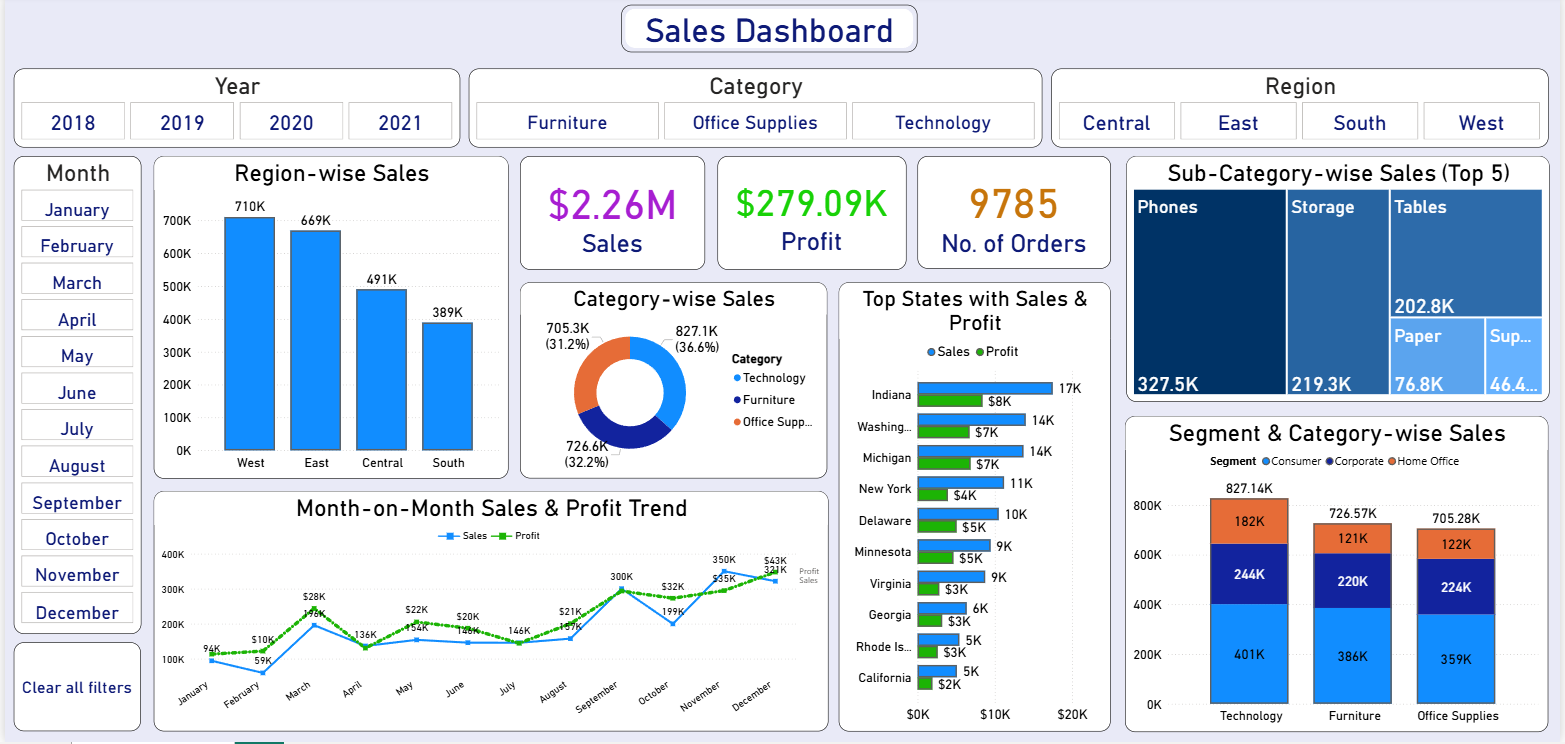

The page's visual inventory and layout, read from the dashboard file:
{"tool":"powerbi","page":{"name":"Sales Dashboard","canvas":[2250,1080],"ordinal":0},"visuals":[{"type":"advancedSlicerVisual","fields":{"Values":["Orders.Region"]},"box":[1514.7,105,720.2,114],"z":0},{"type":"advancedSlicerVisual","fields":{"Values":["Orders.Order Date.Variation.Date Hierarchy.Year"]},"box":[12.7,105,646,114],"z":1000},{"type":"advancedSlicerVisual","fields":{"Values":["Orders.Category"]},"box":[671.4,105,830.6,114],"z":2000},{"type":"card","fields":{"Values":["Sum(Orders.Sales)"]},"box":[745.6,231.6,267.8,164.7],"z":3000},{"type":"card","fields":{"Values":["Sum(Orders.Profit)"]},"box":[1031.5,231.6,273.3,164.7],"z":4000},{"type":"card","fields":{"Values":["CountNonNull(Orders.Order ID)"]},"box":[1320.4,231.5,279.6,163],"z":5000},{"type":"shape","title":"Sales Dashboard","box":[892.7,12.7,429.1,69.1],"z":6000},{"type":"actionButton","box":[12.3,936.1,184,128.8],"z":7000},{"type":"columnChart","title":"Region-wise Sales","fields":{"Y":["Sum(Orders.Sales)"],"Category":["Orders.Region"]},"box":[215.3,231.6,513.9,466.9],"z":8000},{"type":"donutChart","title":"Category-wise Sales","fields":{"Y":["Sum(Orders.Sales)"],"Category":["Orders.Category"]},"box":[745.6,414.4,445.2,284.1],"z":9000},{"type":"lineChart","title":"Month-on-Month Sales & Profit Trend ","fields":{"Y":["Sum(Orders.Sales)"],"Category":["Orders.Order Date.Variation.Date Hierarchy.Month"],"Y2":["Sum(Orders.Profit)"]},"box":[214.6,716.7,977.1,347.9],"z":10000},{"type":"treemap","title":"Sub-Category-wise Sales (Top 5)","fields":{"Values":["Sum(Orders.Sales)"],"Group":["Orders.Sub-Category"]},"box":[1622.9,231.2,612.5,356.2],"z":11000},{"type":"clusteredBarChart","title":"Top States with Sales & Profit","fields":{"Category":["Orders.State"],"Y":["Sum(Orders.Sales)","Sum(Orders.Profit)"]},"box":[1206.2,414.6,393.8,650],"z":12000},{"type":"columnChart","title":"Segment & Category-wise Sales","fields":{"Y":["Sum(Orders.Sales)"],"Category":["Orders.Category"],"Series":["Orders.Segment"]},"box":[1622.2,607.4,613,457.4],"z":13000},{"type":"advancedSlicerVisual","fields":{"Values":["Orders.Order Date.Variation.Date Hierarchy.Month"]},"box":[13.5,230.8,184.6,692.3],"z":14000}]}

Visuals, with their boxes in screenshot pixels (x1, y1, x2, y2), scaled from the page's 2250x1080 canvas onto the 1565x744 screenshot:
advancedSlicerVisual - Orders.Region: 1054,72,1554,151
advancedSlicerVisual - Orders.Order Date.Variation.Date Hierarchy.Year: 9,72,458,151
advancedSlicerVisual - Orders.Category: 467,72,1045,151
card - Sum(Orders.Sales): 519,160,705,273
card - Sum(Orders.Profit): 717,160,908,273
card - CountNonNull(Orders.Order ID): 918,159,1113,272
"Sales Dashboard" shape: 621,9,919,56
actionButton: 9,645,137,734
"Region-wise Sales" columnChart: 150,160,507,481
"Category-wise Sales" donutChart: 519,285,828,481
"Month-on-Month Sales & Profit Trend " lineChart: 149,494,829,733
"Sub-Category-wise Sales (Top 5)" treemap: 1129,159,1555,405
"Top States with Sales & Profit" clusteredBarChart: 839,286,1113,733
"Segment & Category-wise Sales" columnChart: 1128,418,1555,734
advancedSlicerVisual - Orders.Order Date.Variation.Date Hierarchy.Month: 9,159,138,636
